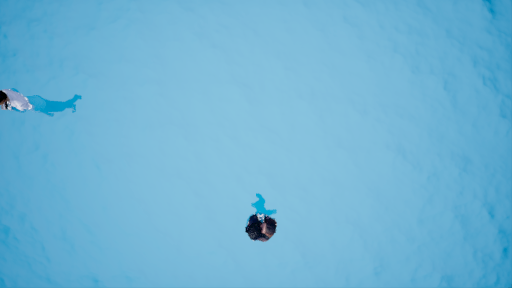person: (229, 190, 291, 243)
